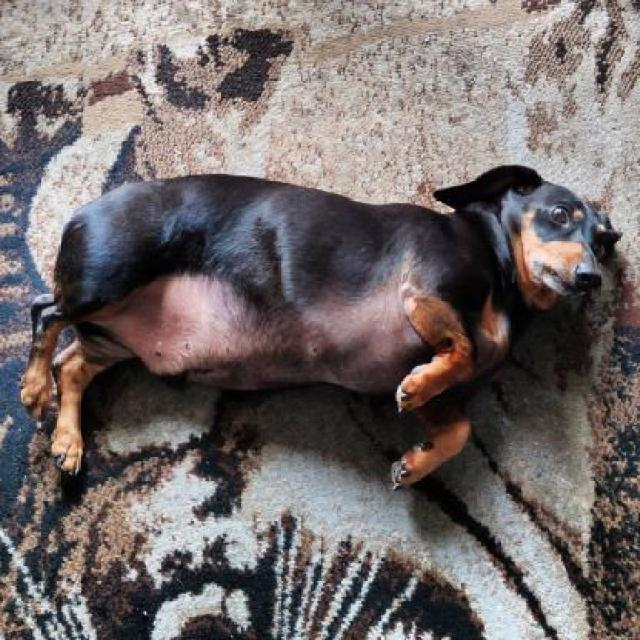Dog: (17, 158, 625, 492)
